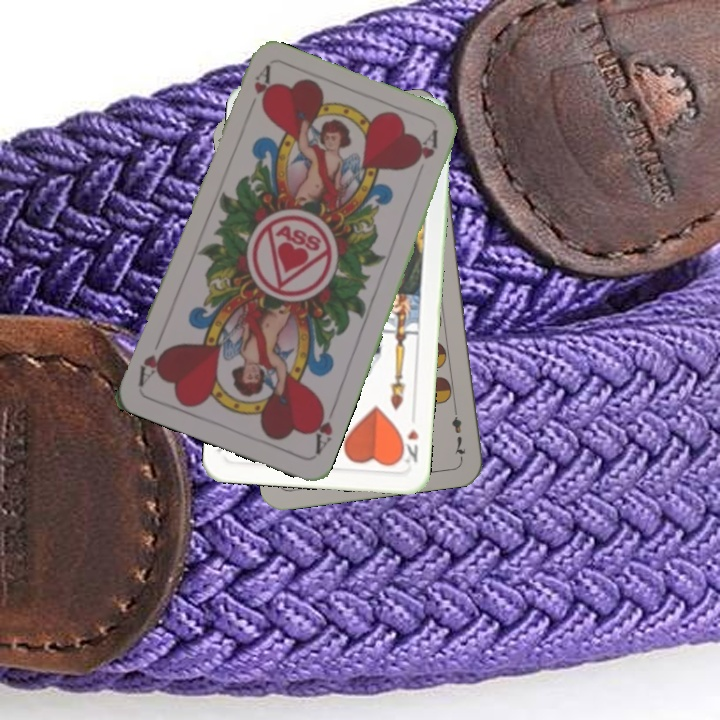E7: (447, 401, 468, 460)
HA: (307, 400, 339, 457), (249, 63, 273, 109)
HK: (395, 425, 421, 468)
